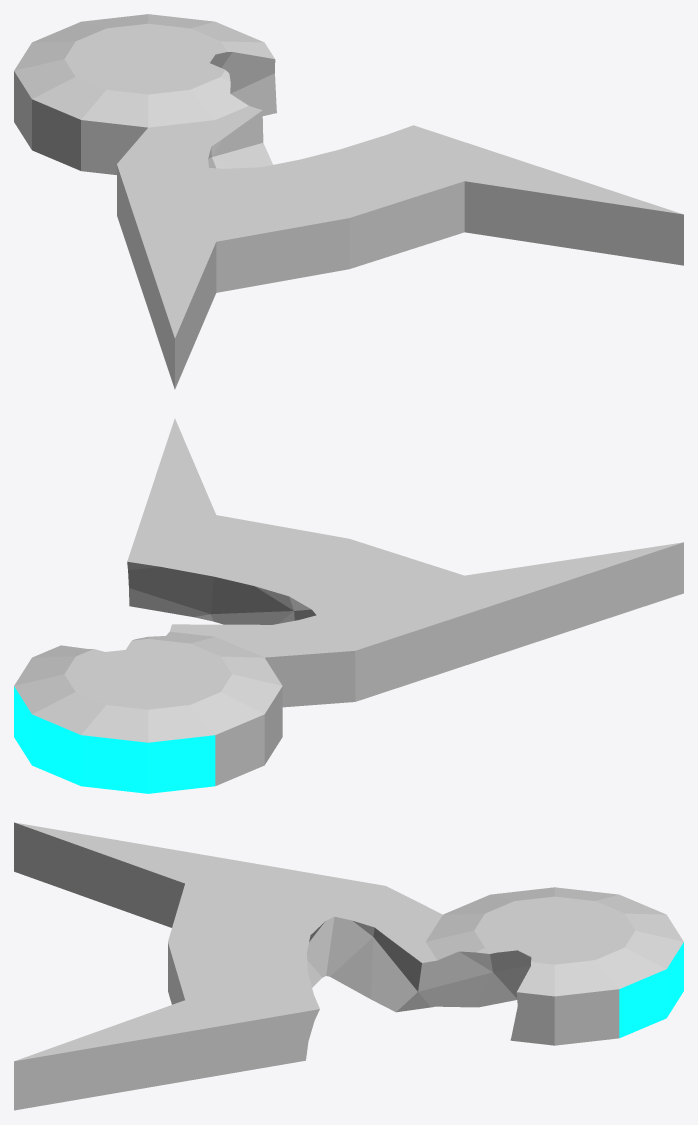
Rendered from science_ship.glb.
3 views of the same model, one above another, from view 1: azimuth 30°, elevation 25°; view 2: azimuth 150°, elevation 25°; view 3: azimuth 270°, elevation 25° (orthographic). The views are drawn at different scales.
Visible parts, largest first — view 1: Cylinder; view 2: Cylinder; view 3: Cylinder.
Part boxes in pixels (x1,y1,x2,y2): Cylinder: [14, 14, 683, 389]; Cylinder: [14, 418, 683, 793]; Cylinder: [14, 822, 683, 1110].
Bounding box in the file's own units: 4.38 × 0.5973 × 5.19.
